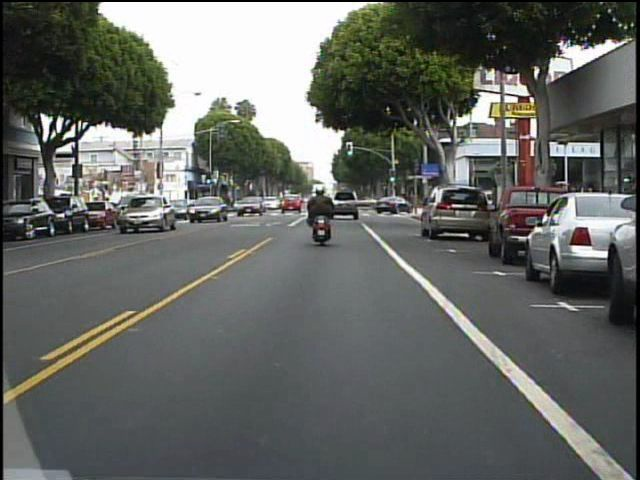person: (306, 181, 340, 243)
